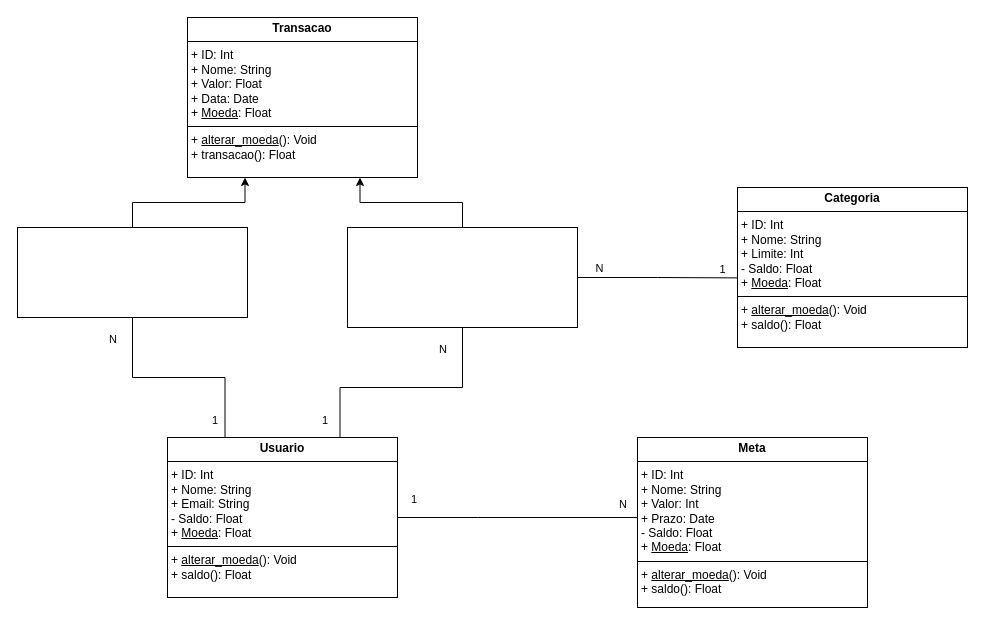
Image size: 985x625. Some labels were removed from this diagram. Each missing label, with the box of its shape:
Pagamento + Forma_Pagamento: String + Fonte: String + transacao(): Float: (346, 226, 578, 328)
Provento + Fonte: String + transacao(): Float: (16, 226, 248, 318)
